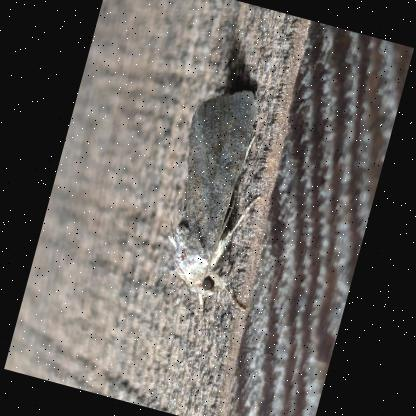Fall Armyworm Moth: (142, 74, 303, 319)
